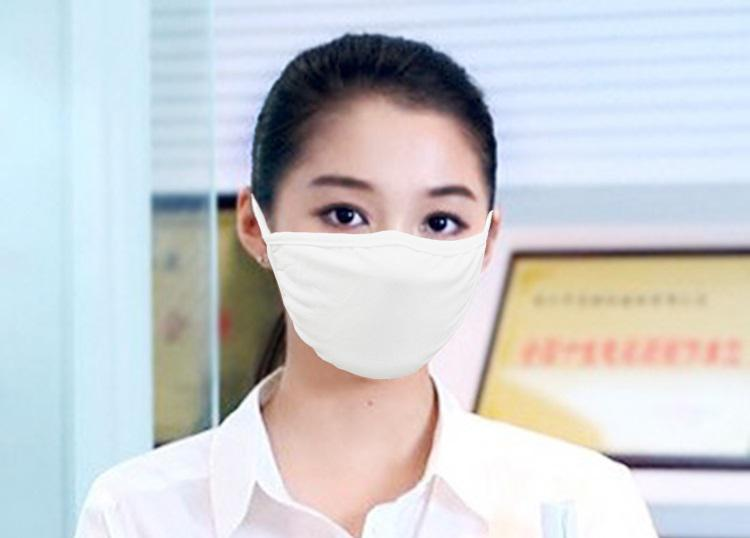OK: (282, 137, 484, 384)
